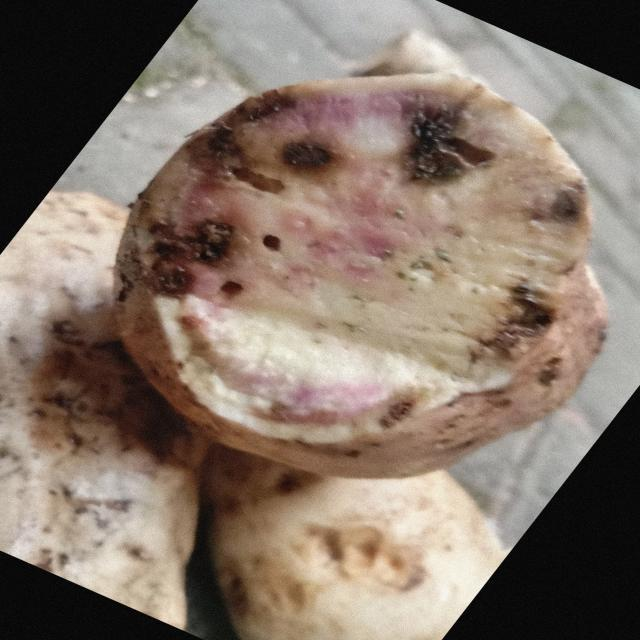Sick Sweet Potato_Tuber Rot: (117, 32, 607, 478)
